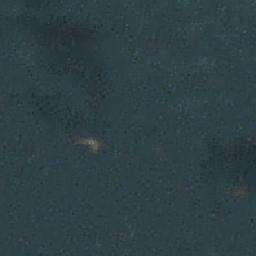debris: (72, 135, 102, 152)
